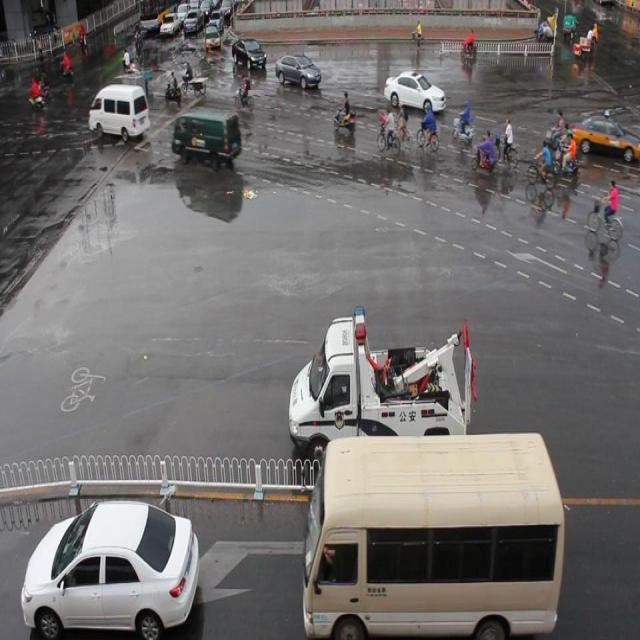bus: (288, 301, 476, 468)
car: (23, 495, 199, 640), (572, 109, 640, 161), (383, 67, 446, 117), (274, 50, 321, 89), (232, 36, 266, 71), (204, 23, 220, 52)
truck: (302, 430, 563, 640), (172, 106, 243, 168), (90, 83, 151, 143)
